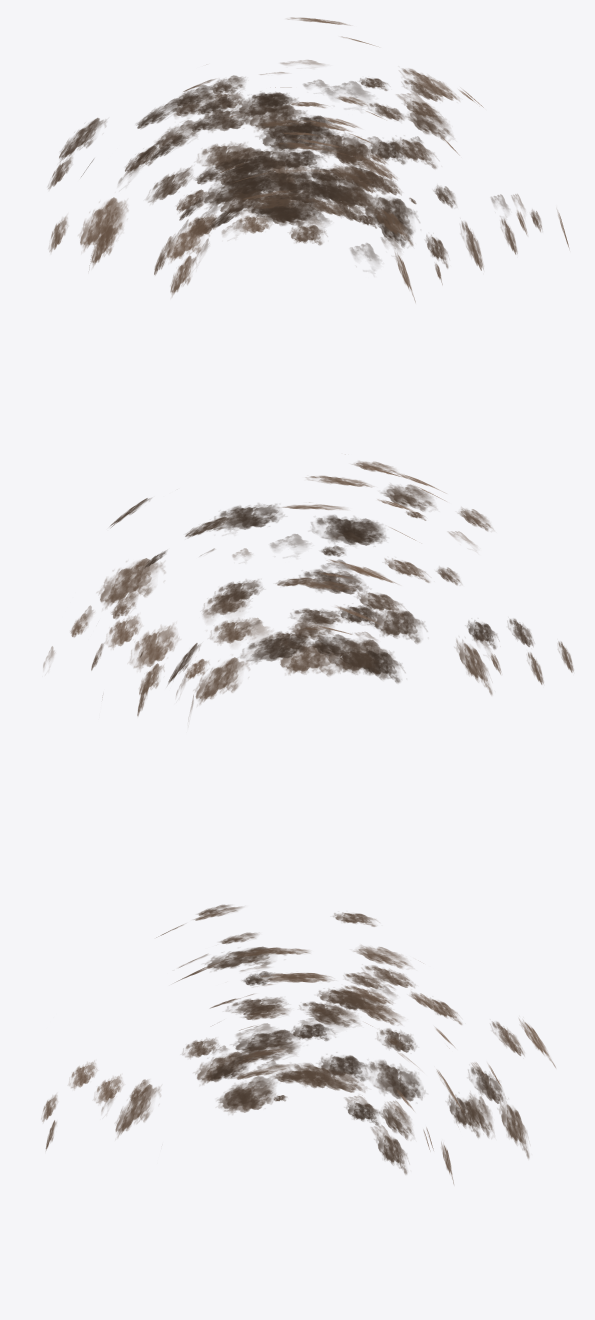
3 renders of one model, top to bottom at view 1: azimuth 30°, elevation 25°; view 2: azimuth 150°, elevation 25°; view 3: azimuth 270°, elevation 25°, orthographic. The views are drawn at different scales.
Visible parts, largest first — view 1: CloudsB, CloudsA, CloudsD, CloudsC; view 2: CloudsA, CloudsC, CloudsB, CloudsD; view 3: CloudsB, CloudsA, CloudsD, CloudsC.
Part boxes in pixels (<box>): CloudsB: <box>170,36,508,296</box>; CloudsA: <box>79,79,569,284</box>; CloudsD: <box>48,60,456,302</box>; CloudsC: <box>89,17,527,270</box>; CloudsA: <box>76,484,489,715</box>; CloudsC: <box>111,461,497,713</box>; CloudsB: <box>43,465,573,695</box>; CloudsD: <box>91,475,427,704</box>; CloudsB: <box>41,912,415,1174</box>; CloudsA: <box>101,947,529,1183</box>; CloudsD: <box>175,904,555,1146</box>; CloudsC: <box>45,906,500,1150</box>.
Bounding box in the file's own units: 17.6 × 9.99 × 17.61.
Materials: 1 (1 with a texture image).
